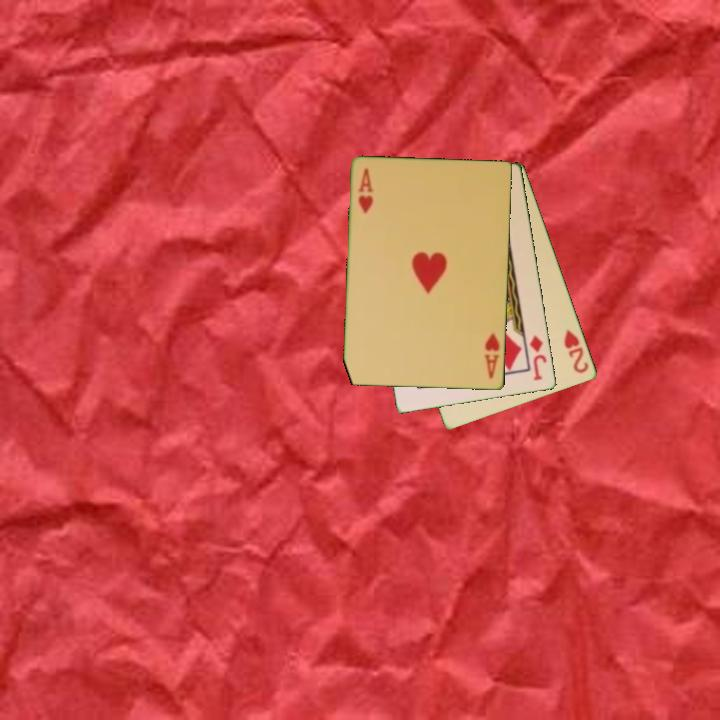2h: (561, 325, 592, 376)
Ah: (481, 329, 503, 382), (355, 165, 376, 217)
Jd: (526, 332, 550, 384)
